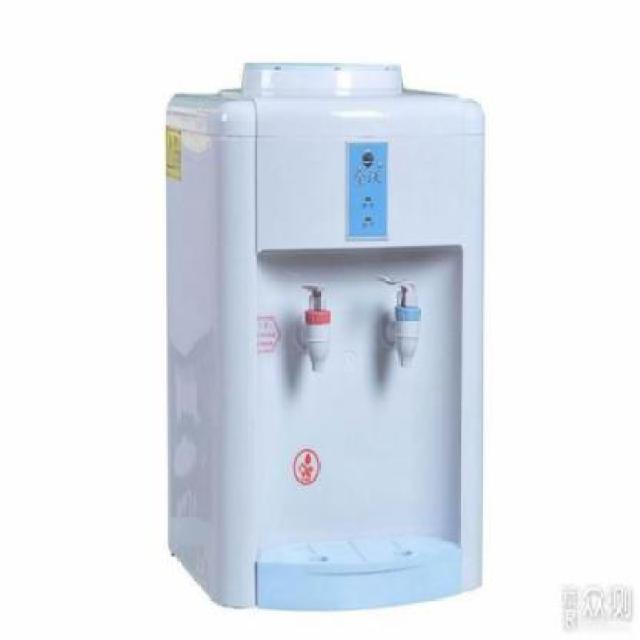cooler: (164, 54, 486, 615)
